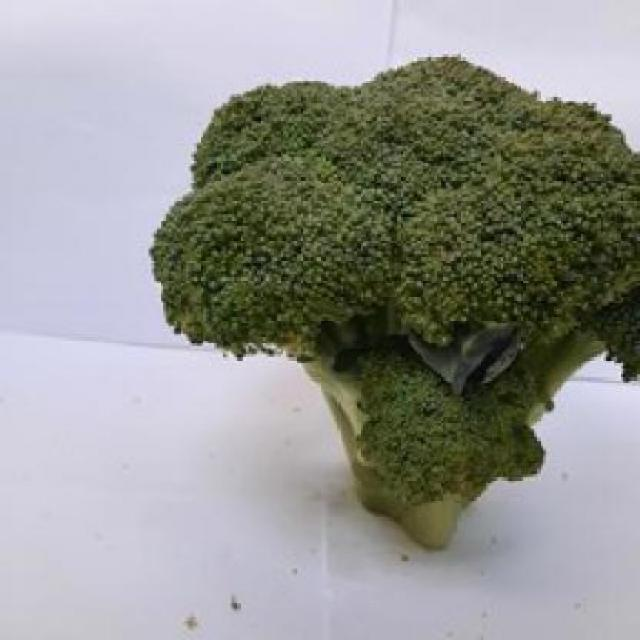broccoli: (152, 63, 638, 566)
